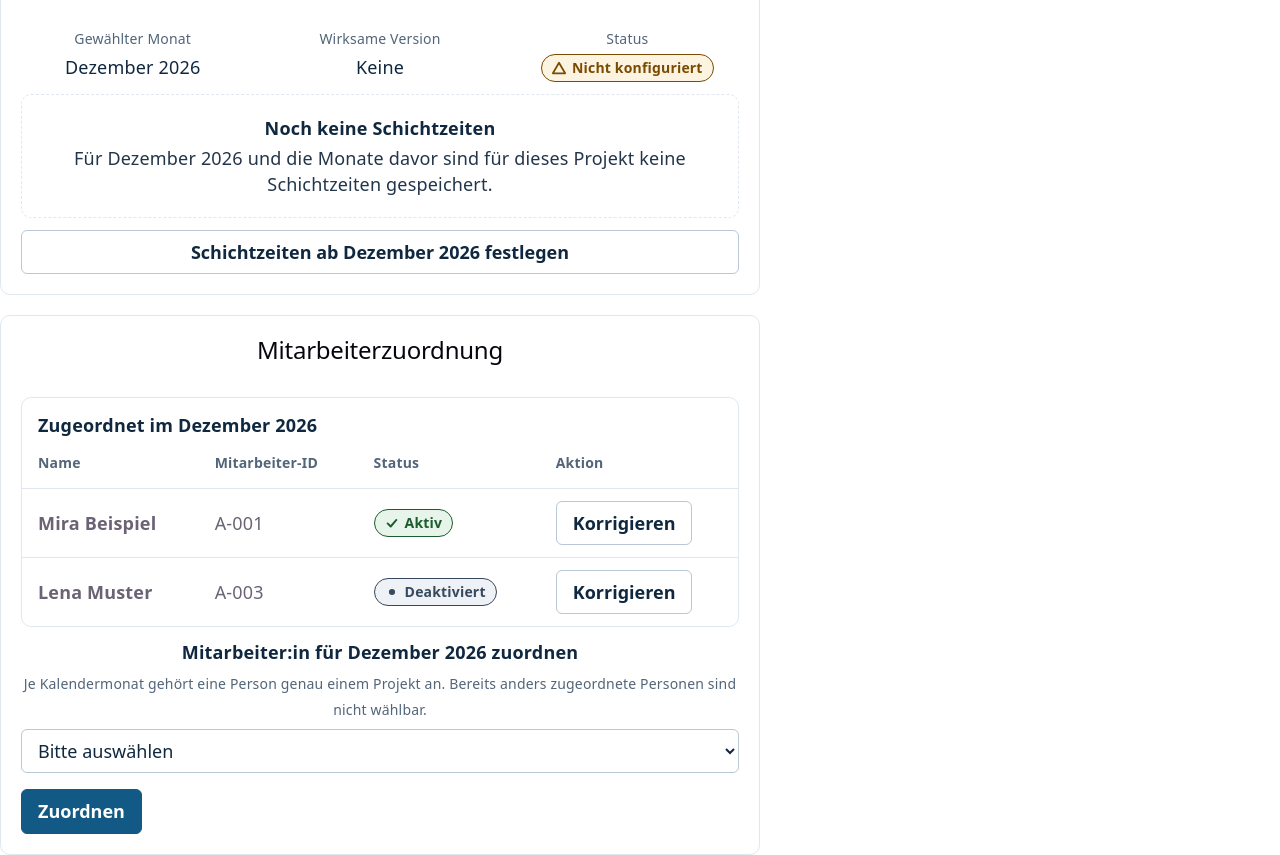
Test: SP-09 correction — opening the form › "Abbrechen" discards the input without a request and returns focus to the row action
(page scrolled)
Click the button with aria-label "Zuordnung von Mira Beispiel korrigieren" at (624,523), box [556,501,692,545]
(page scrolled)
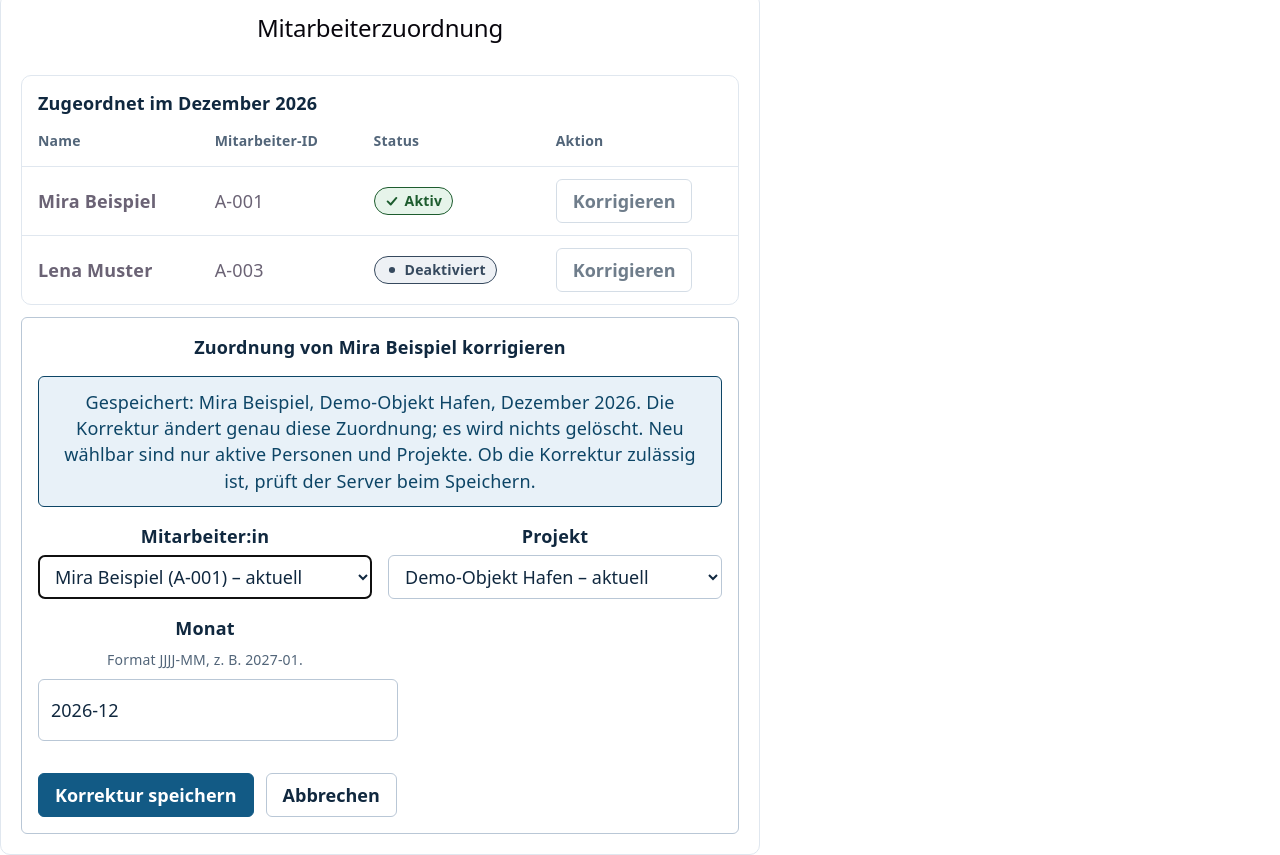
Select "Jonas Albrecht (A-002)" in the dropdown labelled "Mitarbeiter:in" at (205,577), box [38,555,372,599]
(page scrolled)
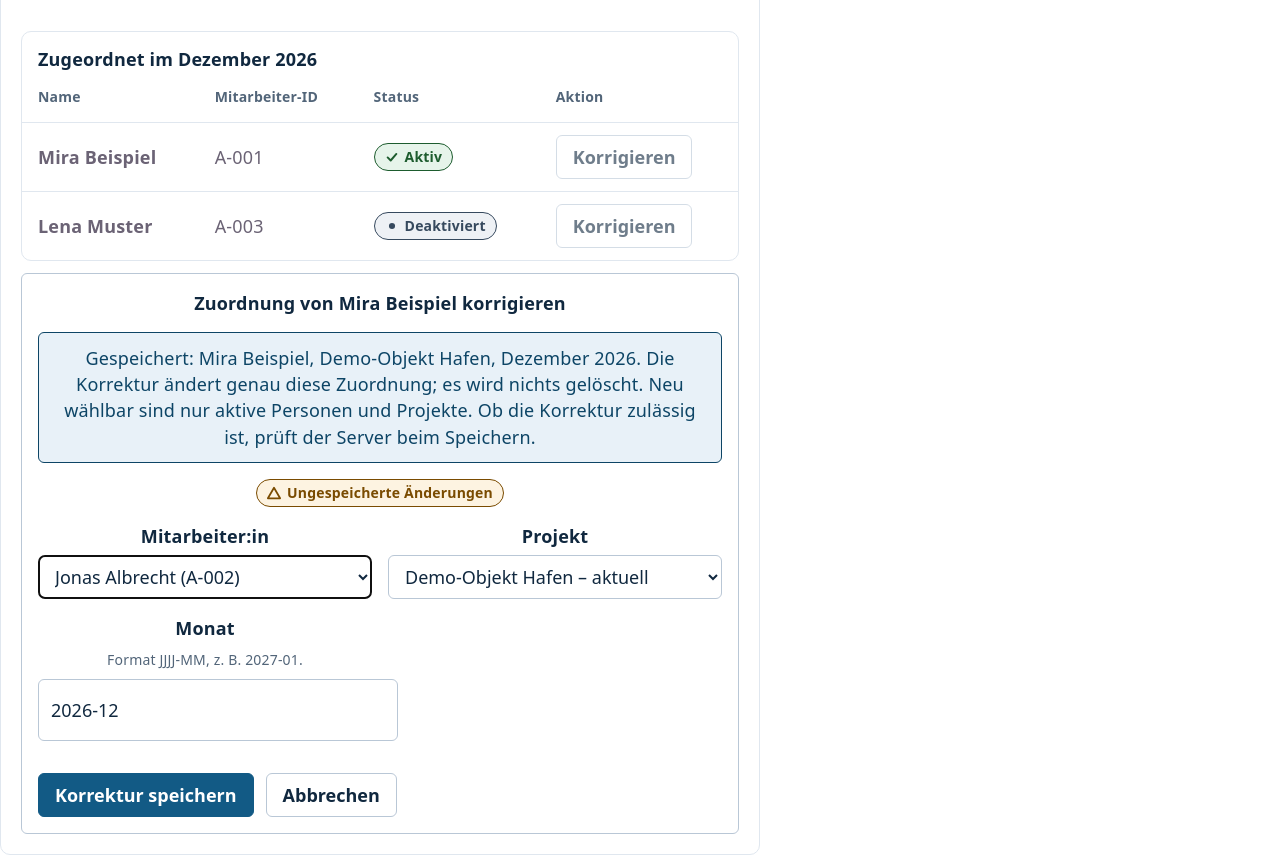
Result: the text "Ungespeicherte Änderungen" is shown at [256,479,504,507]
Click the button "Abbrechen" at (331,795), box [266,773,397,817]
(page scrolled)
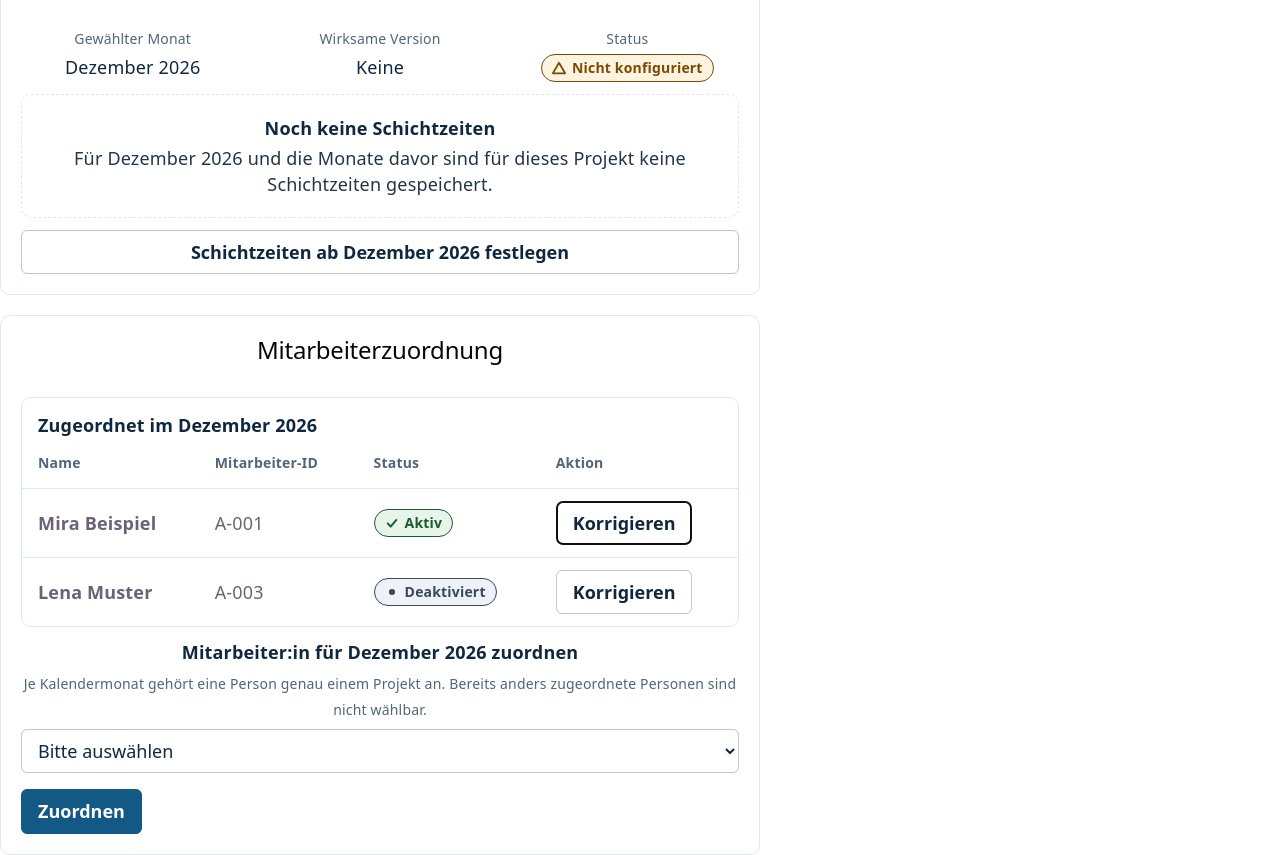
Result: the button with aria-label "Zuordnung von Mira Beispiel korrigieren" is collapsed
Result: the button "Zuordnen" is shown at [21,789,142,834]
Click the button with aria-label "Zuordnung von Mira Beispiel korrigieren" at (624,523), box [556,501,692,545]
(page scrolled)
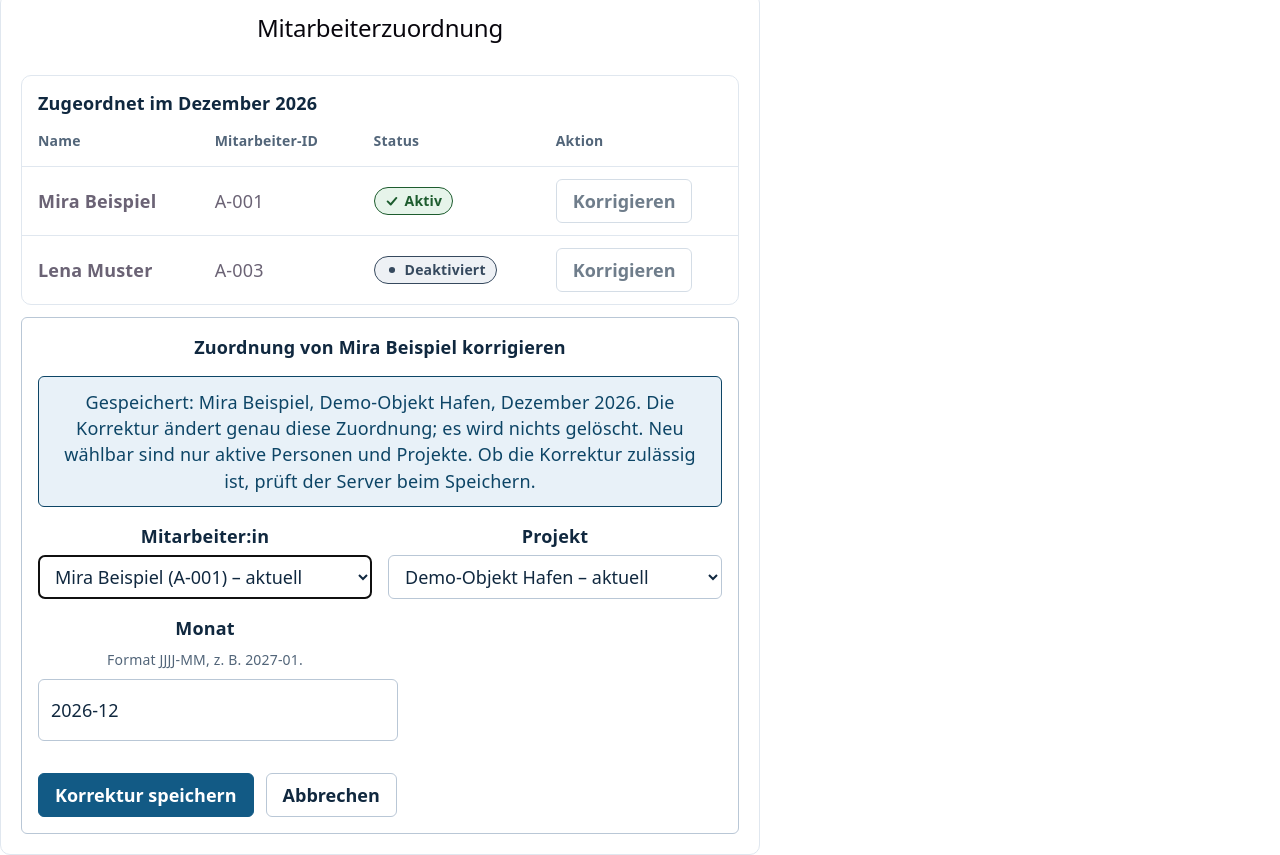
Result: the dropdown labelled "Mitarbeiter:in" shows "Mira Beispiel (A-001) – aktuell" at [38,555,372,599]
